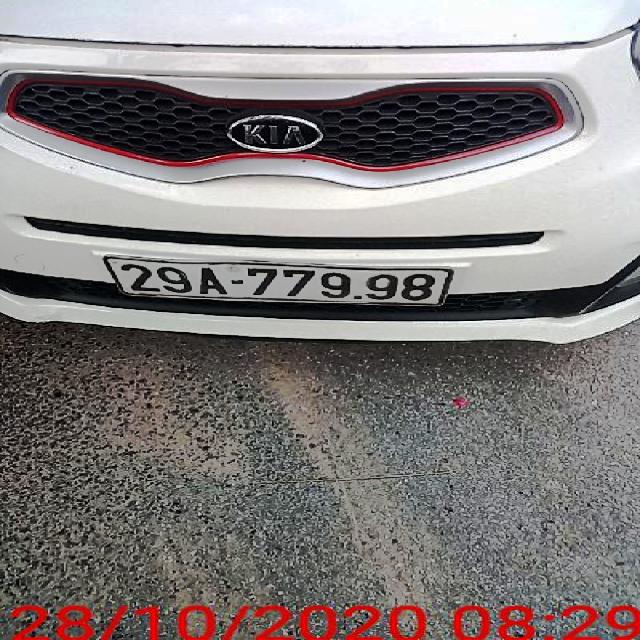license_plate: (107, 255, 456, 307)
